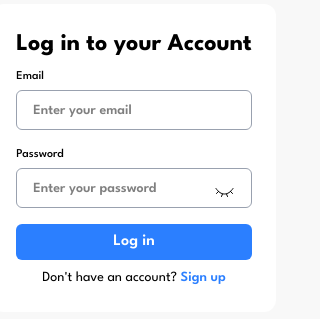
Test case: auth flow › shows an error for invalid login credentials
Type "user@test.com" into the field with test id "auth-login-email". click: x=134, y=110
box: 16,90 -> 252,130
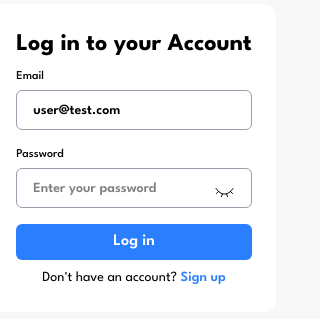
Type "wrongpassword" into the password field with test id "auth-login-password". click: x=124, y=188
box: 33,169 -> 214,207
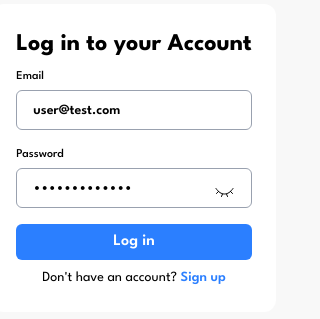
Click the button with test id "auth-login-submit". click: x=134, y=242
box: 16,224 -> 252,260
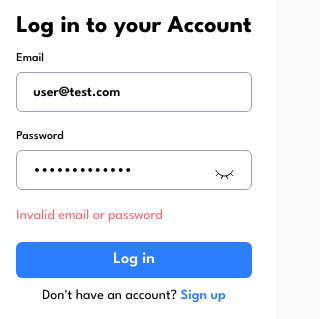
Result: the text "Invalid email or password" is shown at 16,206 -> 163,226
